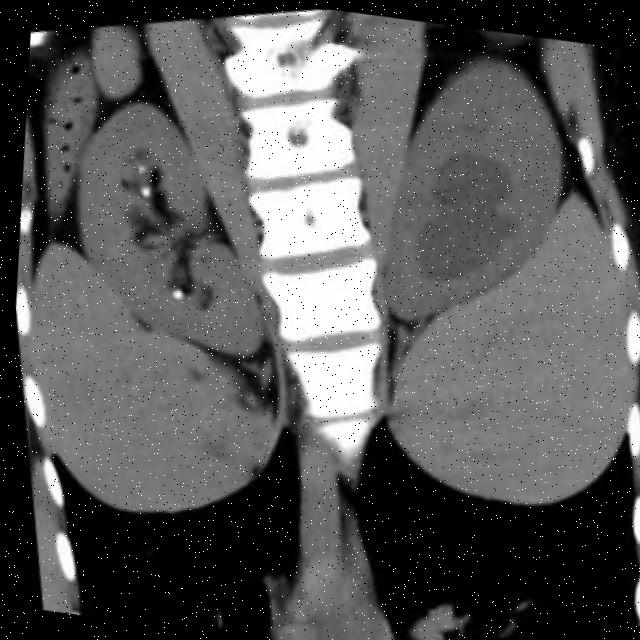Tas_Var: (164, 285, 181, 304), (134, 185, 148, 199), (130, 162, 144, 175)
